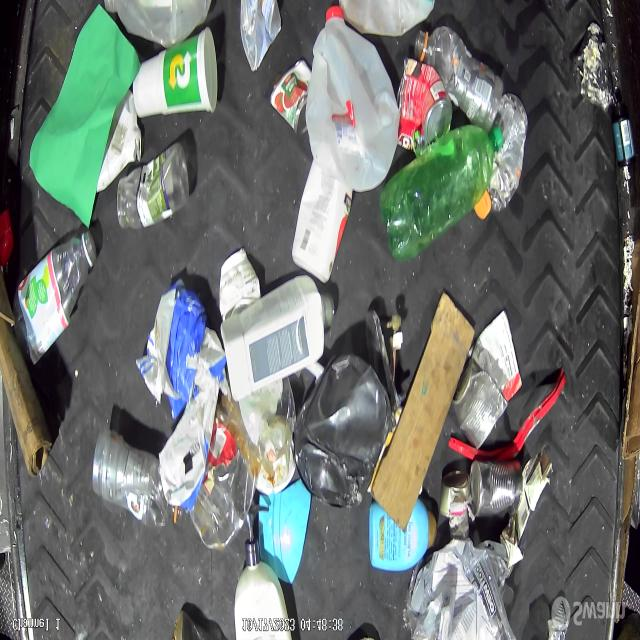can: (451, 358, 509, 451), (399, 57, 454, 150), (270, 60, 312, 136), (469, 460, 522, 520), (439, 470, 472, 520)
milk_jug: (305, 10, 401, 194), (329, 0, 436, 39)
plastic_bottle: (379, 122, 505, 266), (18, 226, 98, 356), (416, 27, 500, 134), (93, 431, 181, 532), (474, 90, 527, 221)
